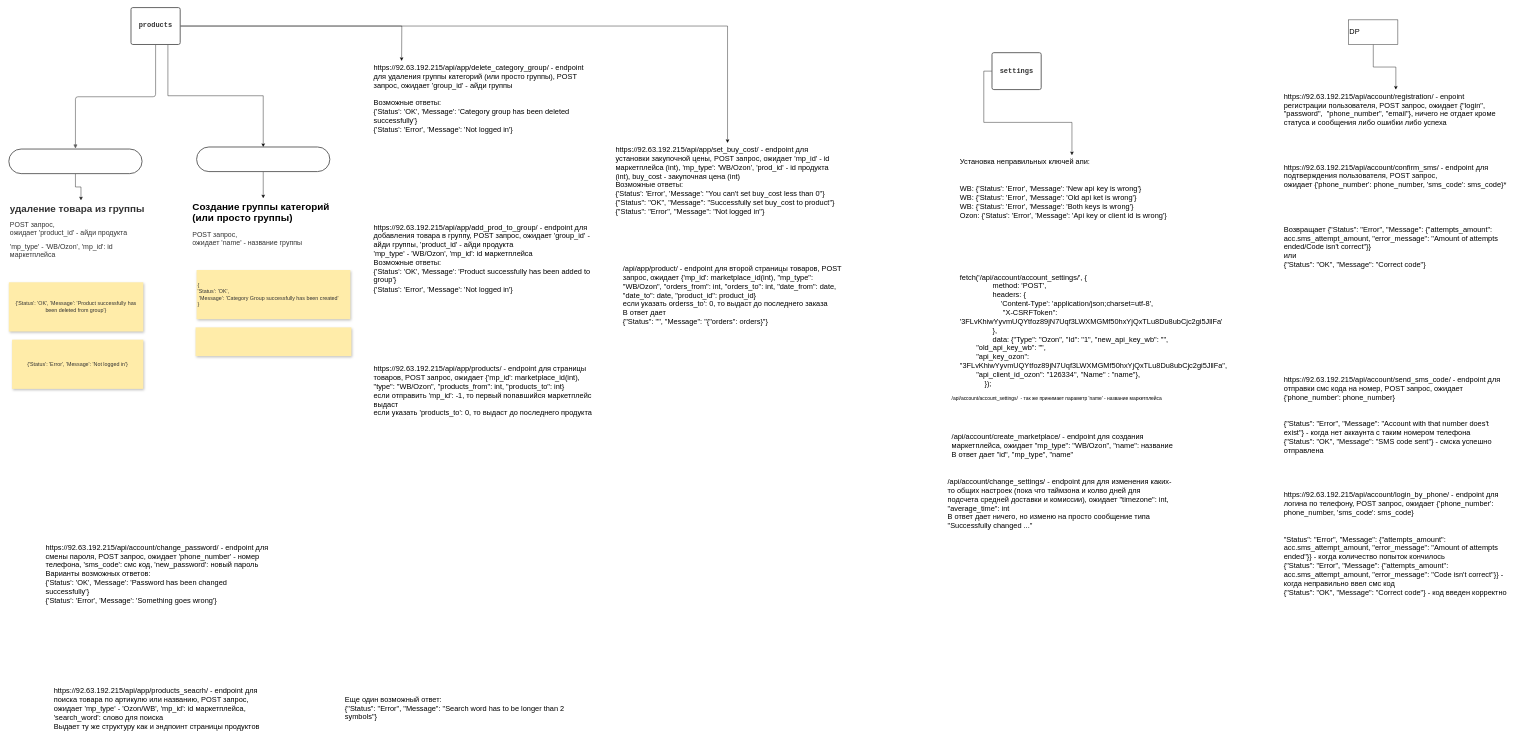
Image size: 1515x745. Some labels were removed from this diagram. Each missing label, with the centre of its shape:
"/api/app/create_category_group/" goes at point 263,159.
"/api/app/delete_prod_from_group/" goes at point 75,161.
"{ 'Status': 'Error', 'Message': 'Not logged in' }" goes at point 274,342.
